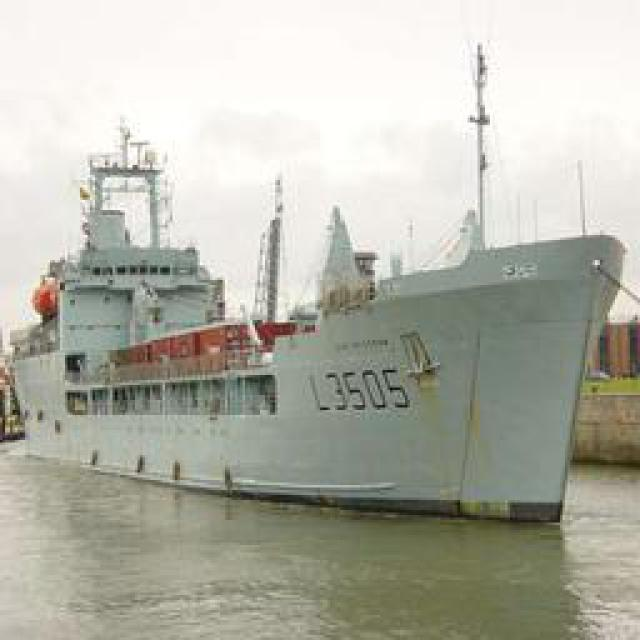Ship: (25, 137, 610, 507)
